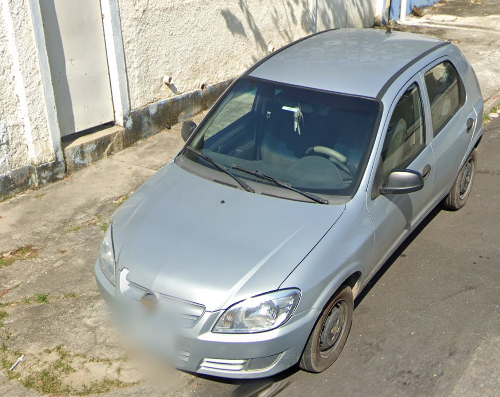car: (95, 26, 484, 380)
